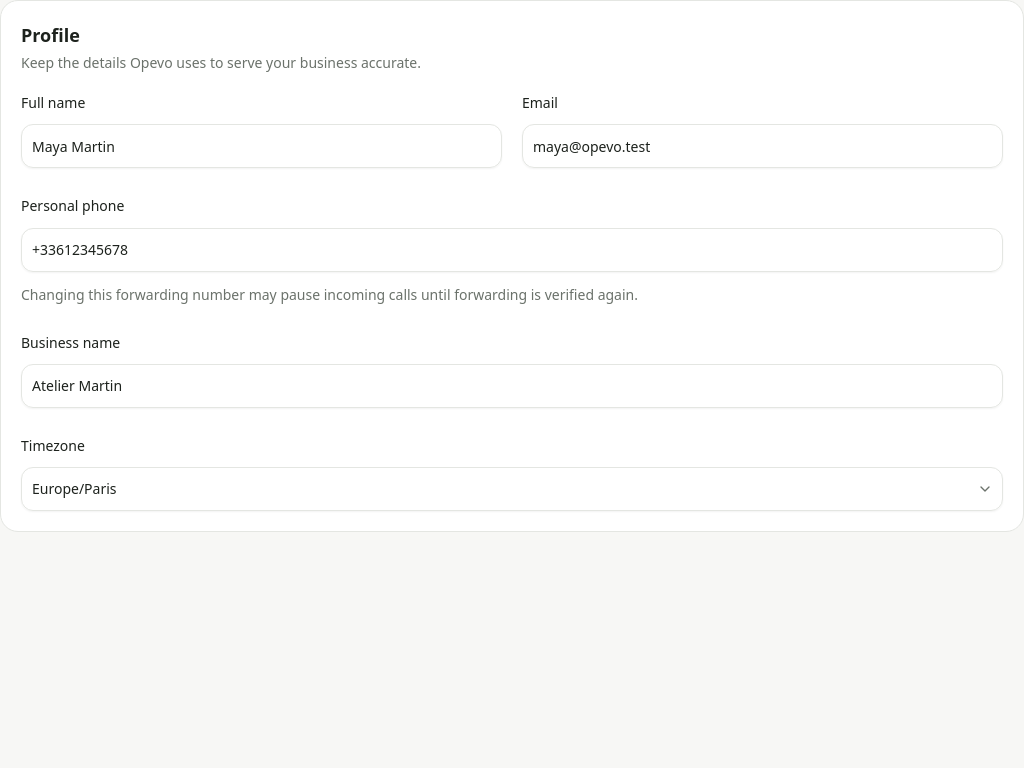
Test case: account profile form › associates server-returned fields with errors and focuses the first affected rendered control
Replace the text in the field labelled "Business name" with "Atelier retained draft" at (512, 386), box [21, 364, 1003, 408]
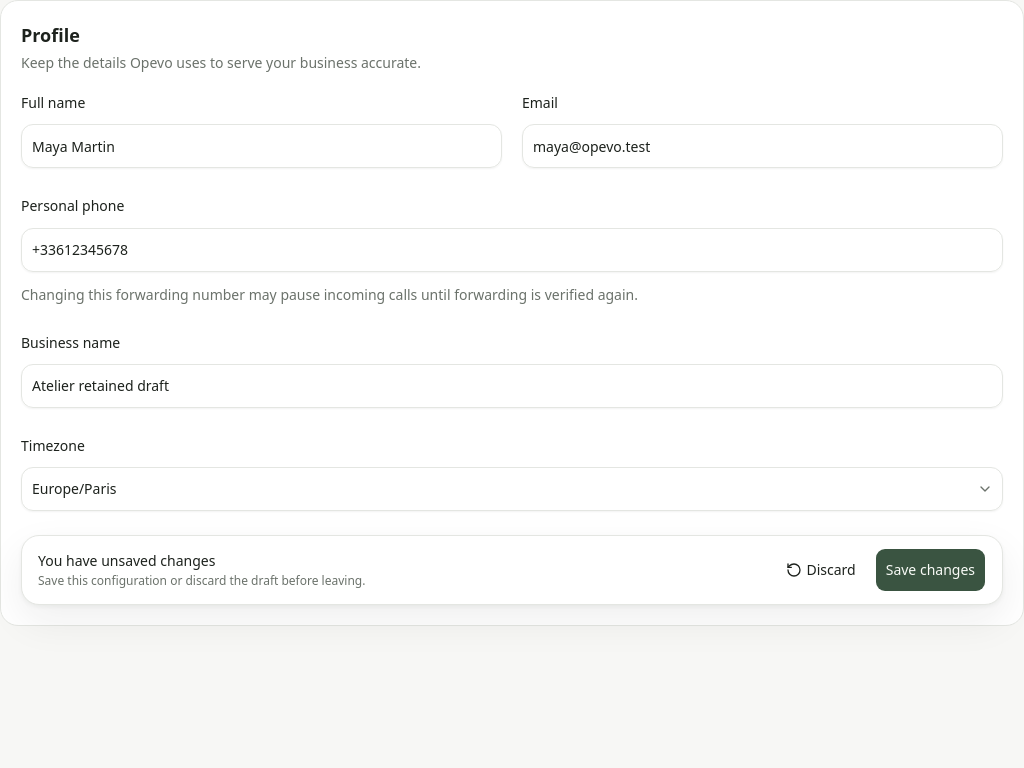
Click the button "Save changes".
click(930, 570)  # box [875, 548, 986, 592]
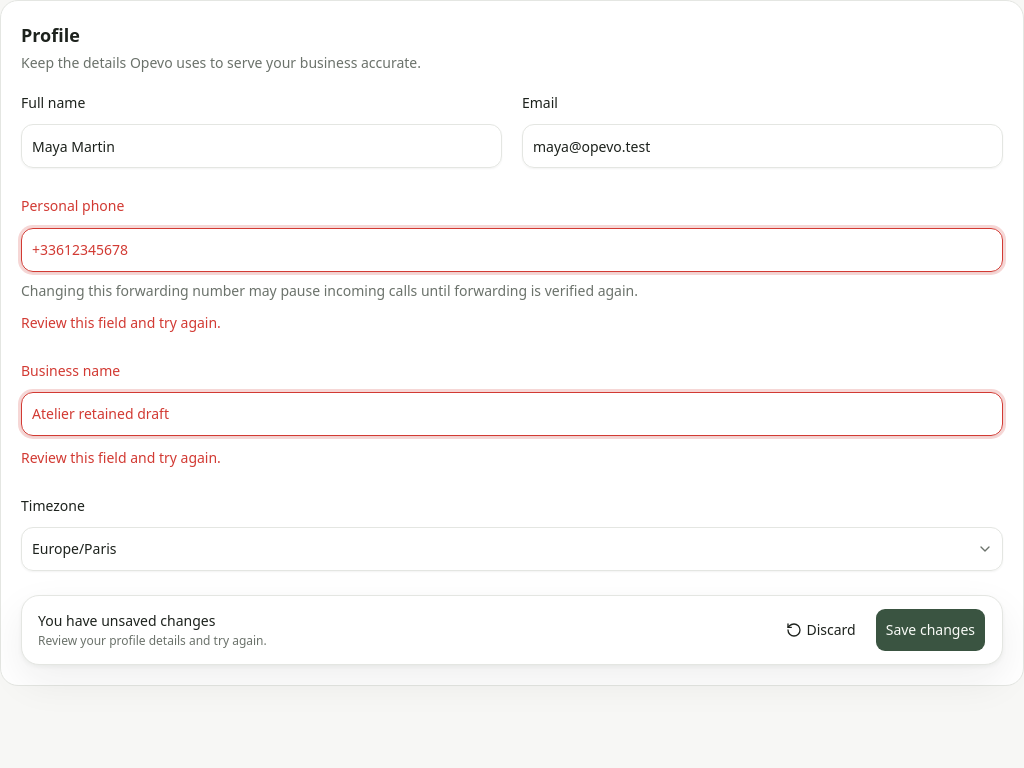
Check: the button "Save changes" is enabled, box [875, 608, 986, 652]
Check: the element labelled "Personal phone" shows "Review this field and try again.", box [21, 312, 221, 332]
Check: the element labelled "Business name" shows "Review this field and try again.", box [21, 448, 221, 467]
